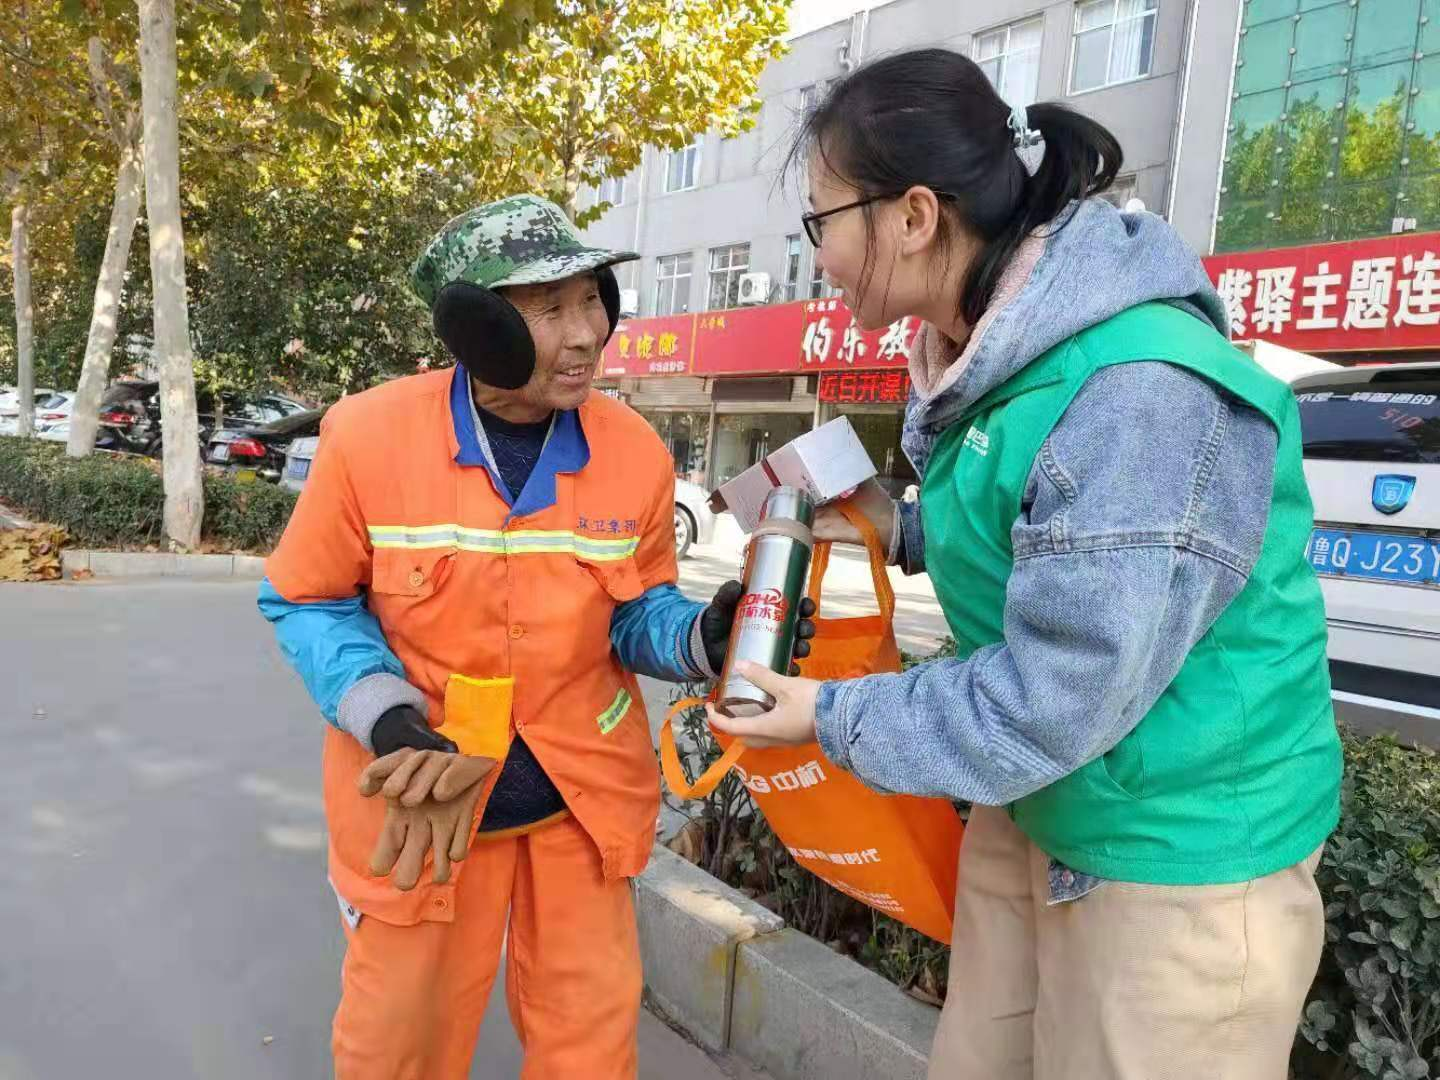nothing: (730, 47, 1352, 889)
vest: (263, 196, 759, 933)
